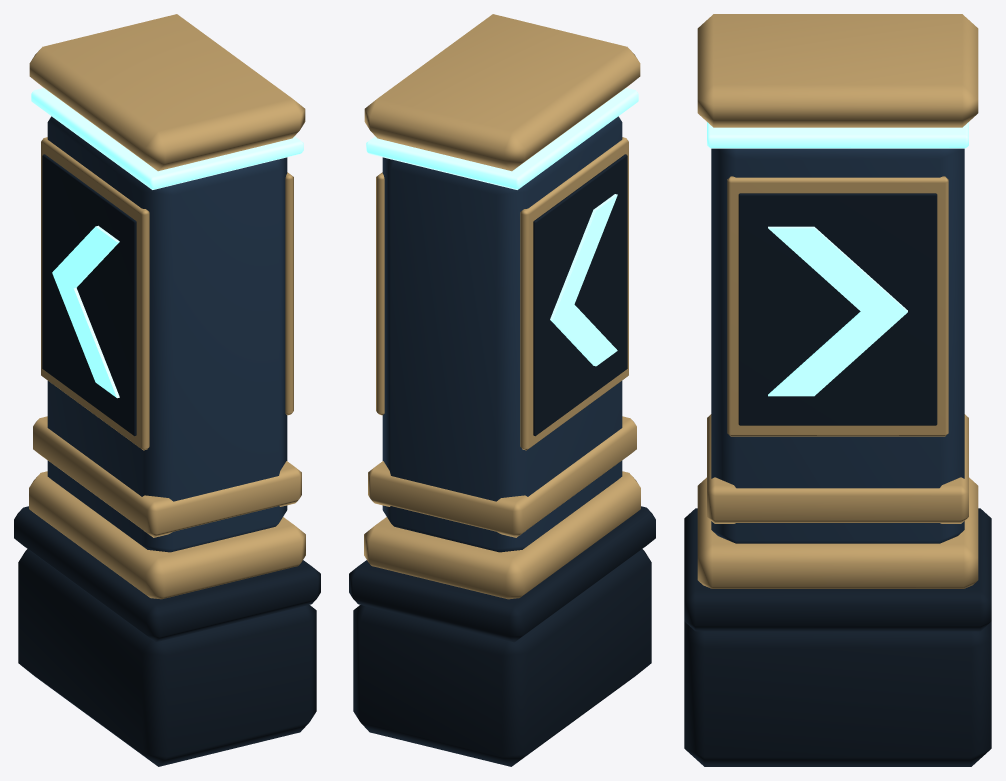
File: lumo_guide_beacon_lod1.glb
The picture shows the model from 3 angles, left to right: view 1: azimuth 30°, elevation 25°; view 2: azimuth 150°, elevation 25°; view 3: azimuth 270°, elevation 25°; orthographic projection. The views are drawn at different scales.
Visible parts, largest first — view 1: lumo_guide_beacon; view 2: lumo_guide_beacon; view 3: lumo_guide_beacon.
Boxes of the visible parts, x1,y1,x2,y2 form: lumo_guide_beacon: [14, 14, 320, 766]; lumo_guide_beacon: [349, 14, 655, 766]; lumo_guide_beacon: [684, 14, 991, 766].
Bounding box in the file's own units: 0.48 × 1.66 × 0.68.
